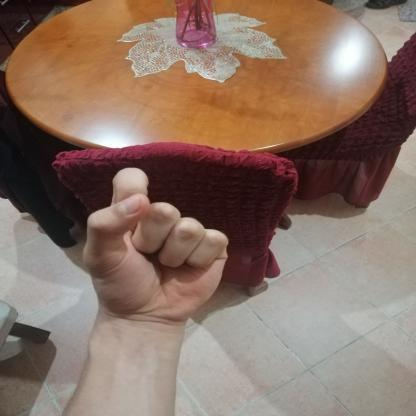FAA: (66, 159, 242, 331)
